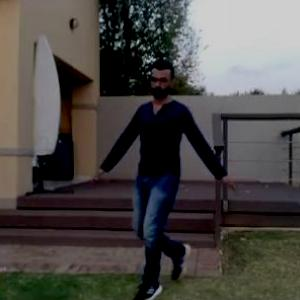land: (102, 70, 234, 286)
